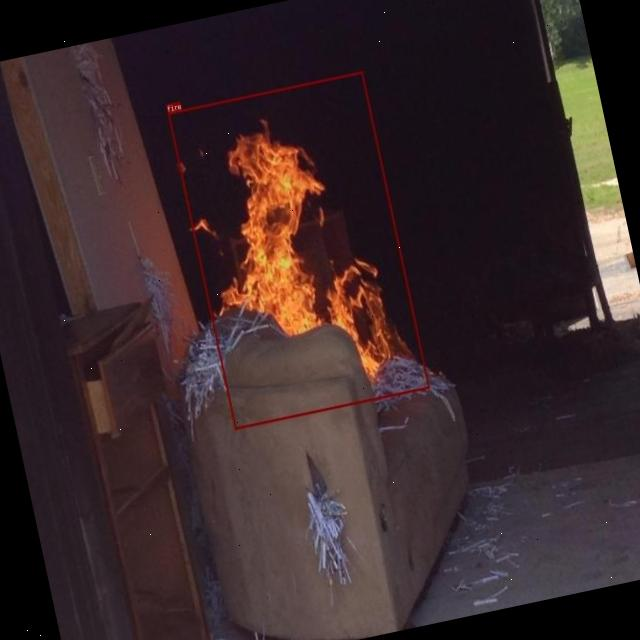fire: (166, 70, 430, 430)
